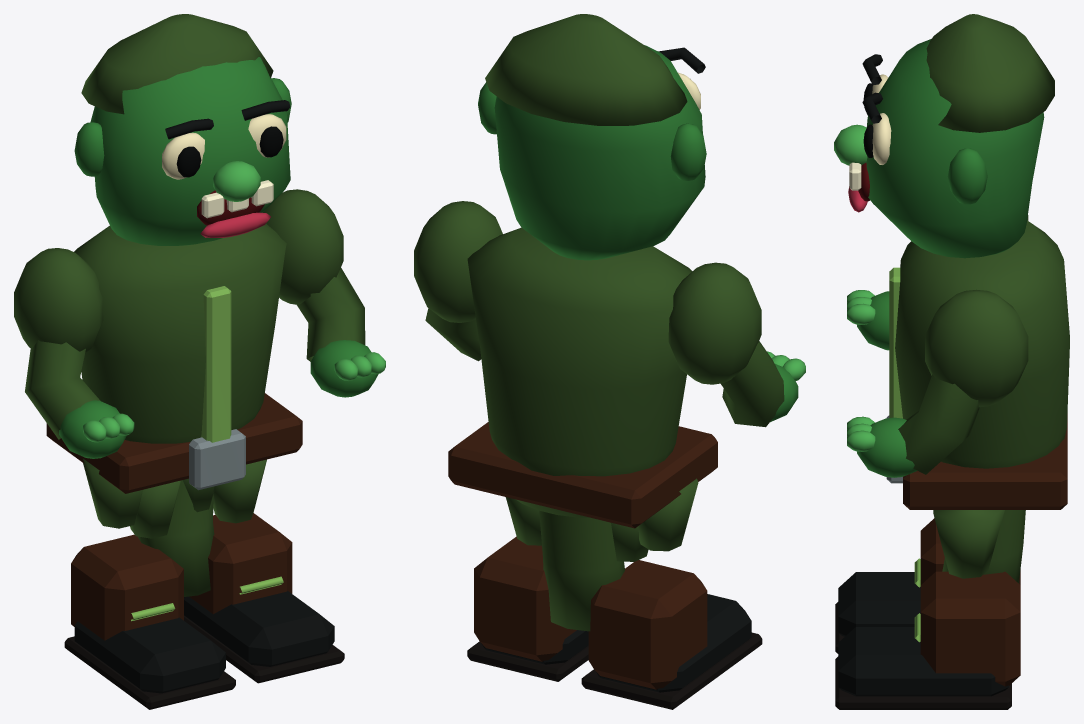
Rendered from normal.glb.
3 views of the same model, side by side, from view 1: azimuth 30°, elevation 25°; view 2: azimuth 150°, elevation 25°; view 3: azimuth 270°, elevation 25° (orthographic). The views are drawn at different scales.
Parts seen in each view (by area): view 1: Body, Head, Arms, LegL, LegR; view 2: Body, Head, LegL, Arms, LegR; view 3: Head, Body, LegR, Arms, LegL.
Boxes of the visible parts, x1,y1,x2,y2 form: Body: (46, 223, 302, 538); Head: (74, 14, 291, 245); Arms: (14, 189, 385, 458); LegL: (64, 480, 235, 709); LegR: (137, 513, 344, 683); Body: (448, 227, 717, 561); Head: (478, 14, 706, 260); LegL: (539, 510, 762, 709); Arms: (414, 201, 805, 427); LegR: (467, 522, 623, 681); Head: (834, 14, 1054, 258); Body: (886, 220, 1069, 578); LegR: (835, 510, 1020, 709); Arms: (847, 215, 1028, 477); LegL: (835, 510, 1025, 653).
Bounding box in the file's own units: 0.6749 × 1.2 × 0.4005.
1 material, 1 textured.
